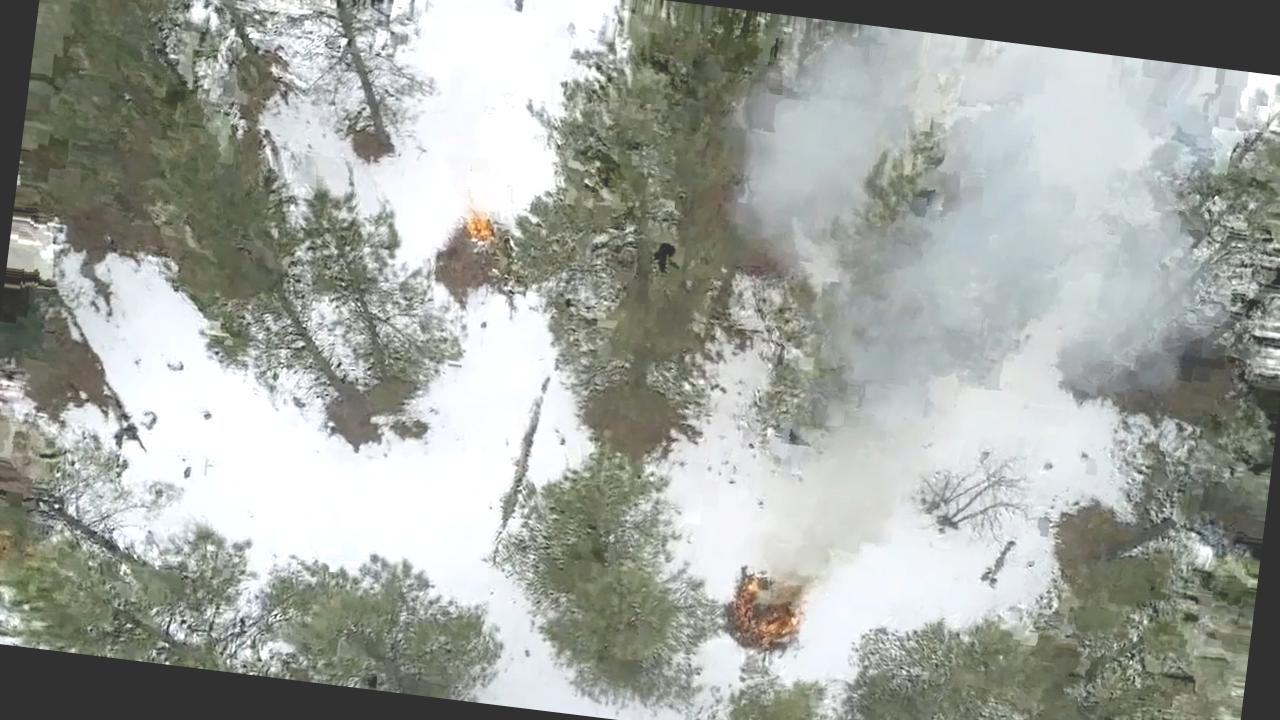fire: (725, 538, 832, 649), (454, 191, 498, 245)
smoke: (855, 28, 1280, 378), (738, 16, 933, 243)
